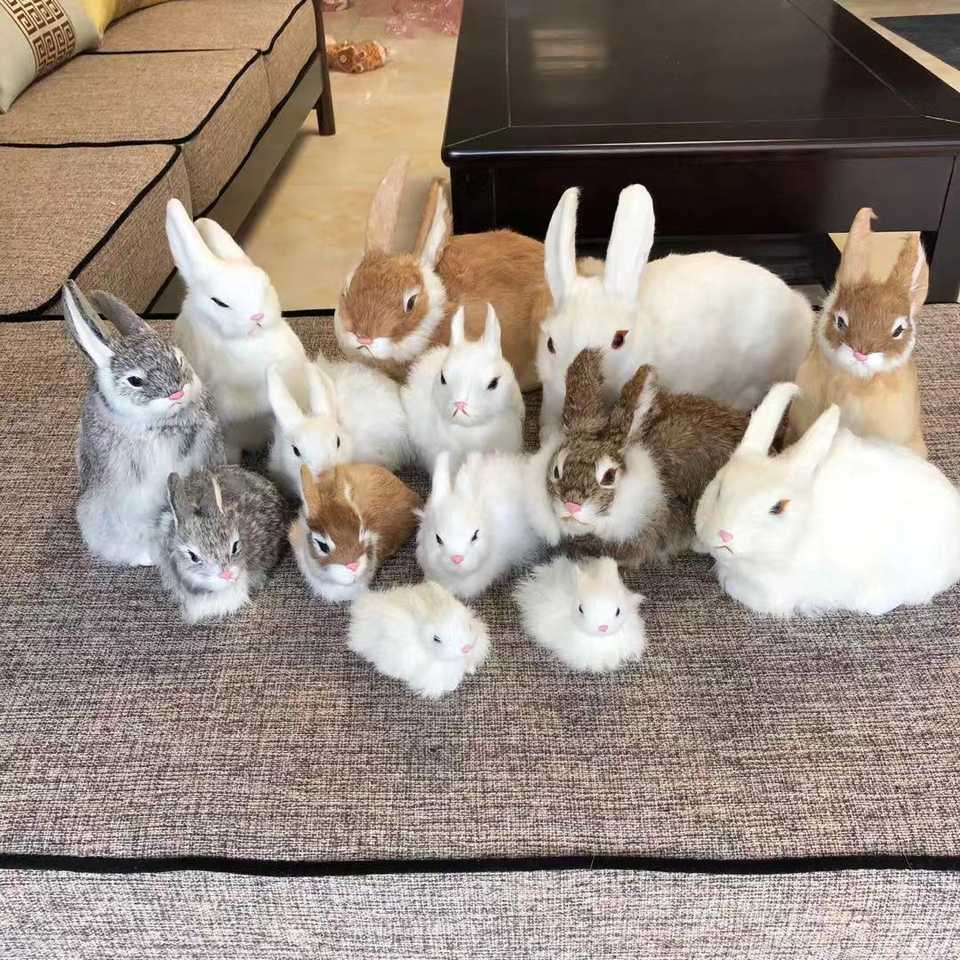rabbit: (533, 177, 824, 422), (29, 273, 230, 625), (693, 378, 960, 631), (543, 357, 762, 557), (340, 165, 554, 362), (164, 201, 313, 445), (806, 205, 945, 454), (145, 465, 305, 635), (496, 549, 676, 696), (325, 571, 496, 717), (285, 461, 462, 601), (261, 353, 415, 484), (402, 307, 532, 461), (420, 441, 546, 594)
